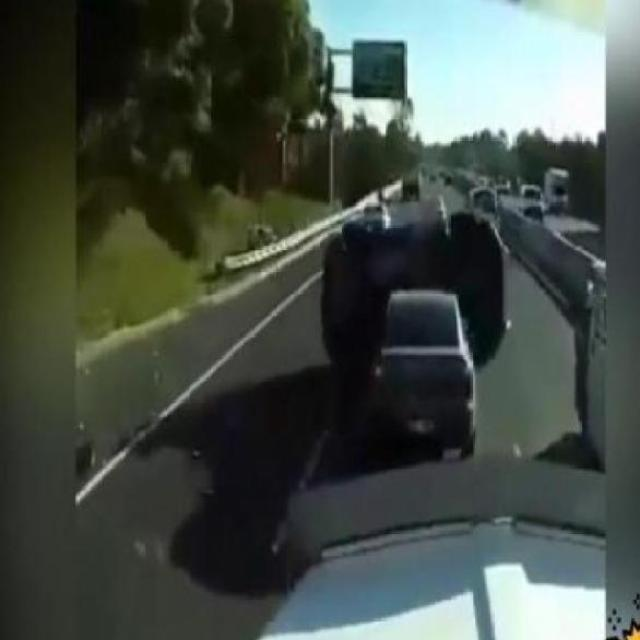accident: (308, 207, 547, 441)
